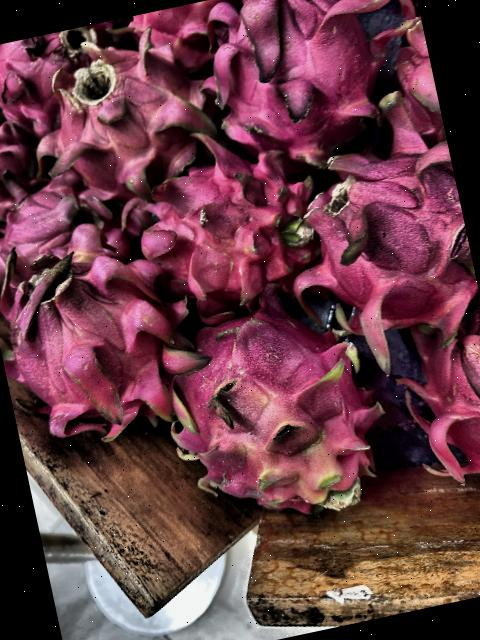buah-naga-belum-matang: (155, 285, 403, 541), (29, 28, 222, 205)
buah-naga-matang: (275, 111, 480, 345), (0, 230, 192, 440), (124, 129, 326, 321), (194, 0, 398, 176), (388, 294, 480, 526), (0, 160, 130, 287), (0, 20, 128, 117), (122, 0, 225, 78), (0, 92, 44, 224)
